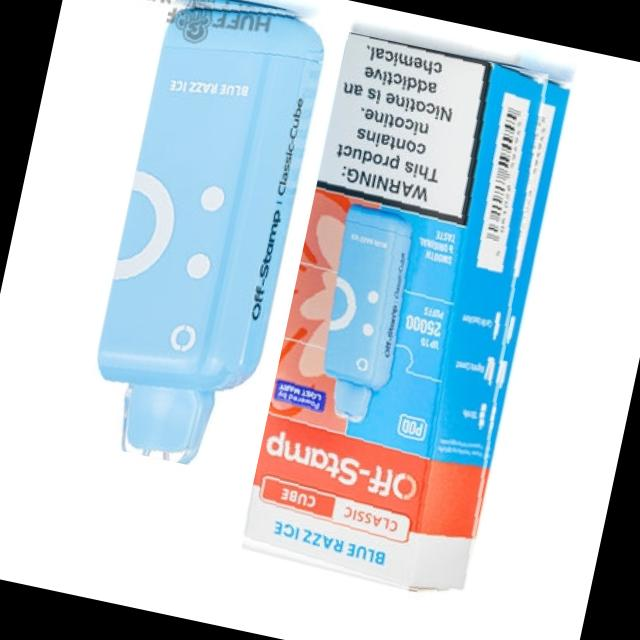Hazard: (236, 30, 574, 602), (76, 0, 335, 474)
